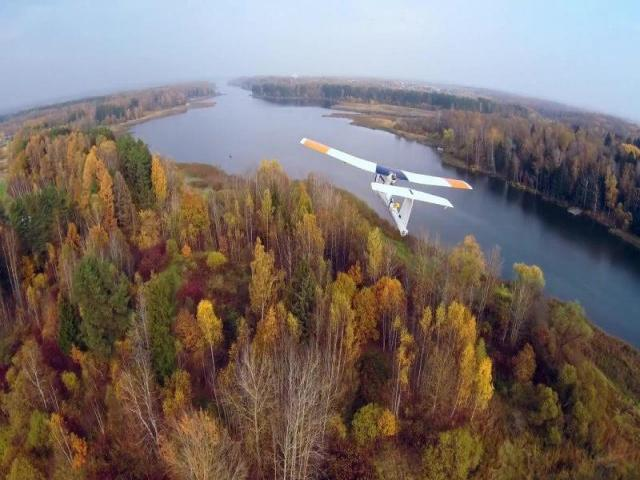hedef: (296, 126, 484, 245)
